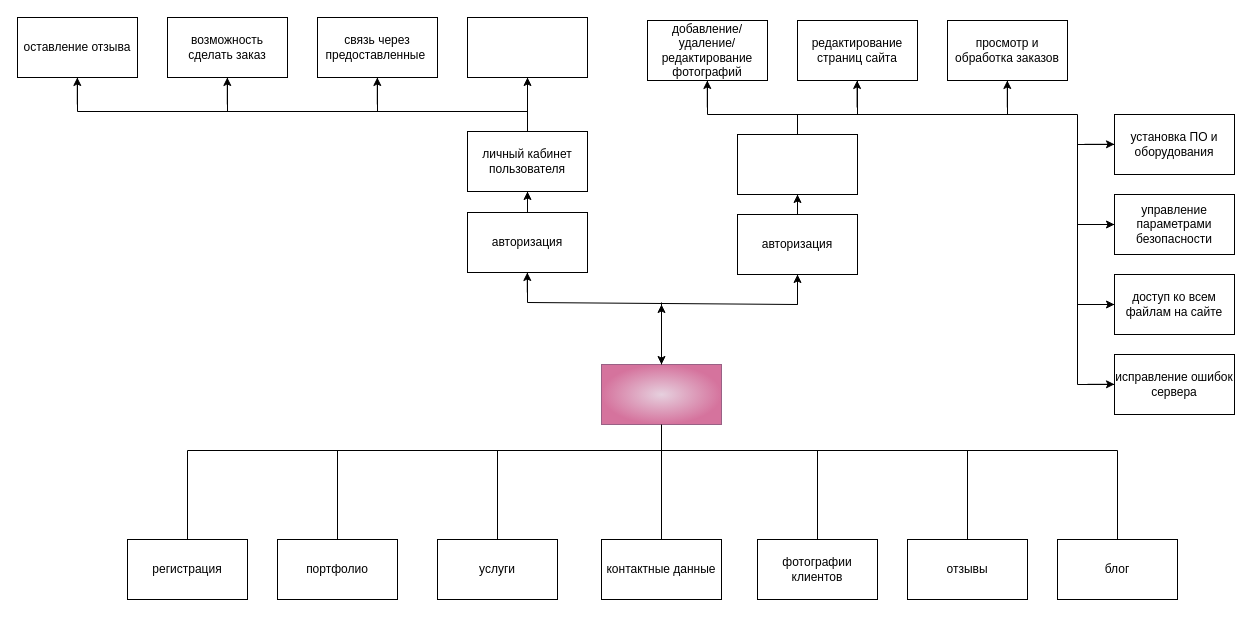
Image size: 1252x617. Some labels were removed from this diagram. The shapes that lost their labels are listed below. From the top down, each one's centre as x and y in pixels, then its label:
(527,47): просмотр услуг и портфолио
(797,164): личный кабинет администратора
(661,394): структура сайта
